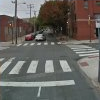crosswalk: (0, 58, 71, 76), (65, 43, 100, 57), (16, 41, 61, 47)
